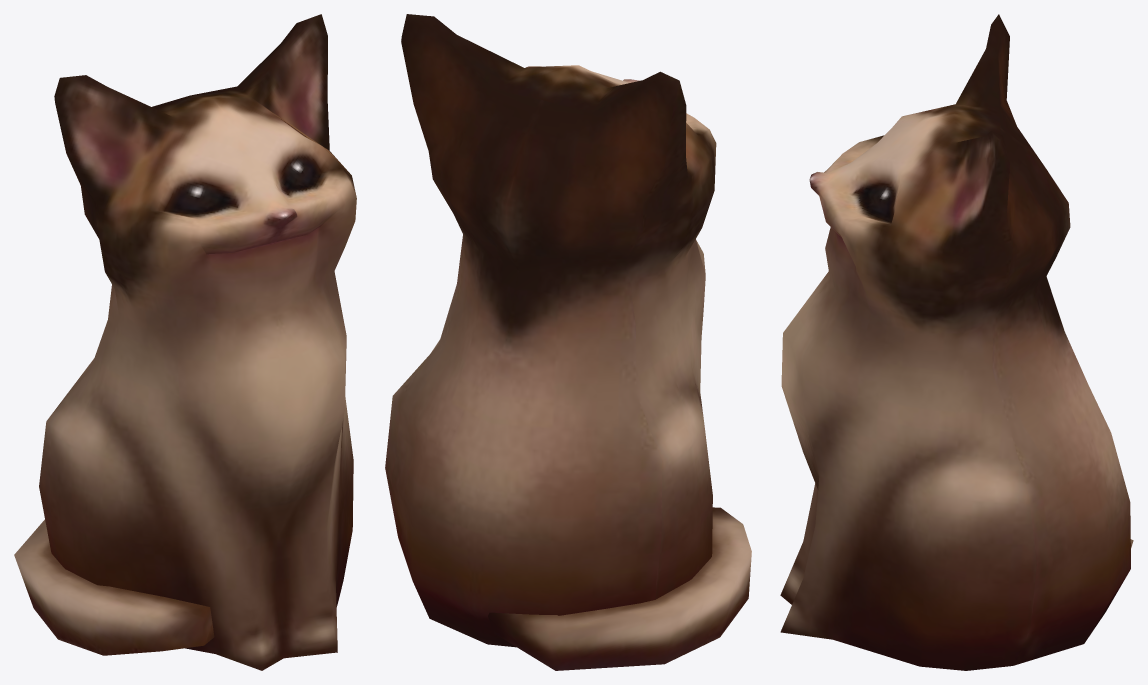
File: pop_cat.glb
The picture shows the model from 3 angles, left to right: view 1: azimuth 30°, elevation 25°; view 2: azimuth 150°, elevation 25°; view 3: azimuth 270°, elevation 25°; orthographic projection. The views are drawn at different scales.
Parts seen in each view (by area): view 1: cat_6, tail_1; view 2: cat_6, tail_1; view 3: cat_6.
Boxes of the visible parts, x1,y1,x2,y2 form: cat_6: (39,14,356,670); tail_1: (14,519,214,655); cat_6: (385,14,716,647); tail_1: (488,507,751,670); cat_6: (780,14,1130,670).
Size of the model in its own units: 7.58 by 13 by 7.64.
Materials: 1 (1 with a texture image).
